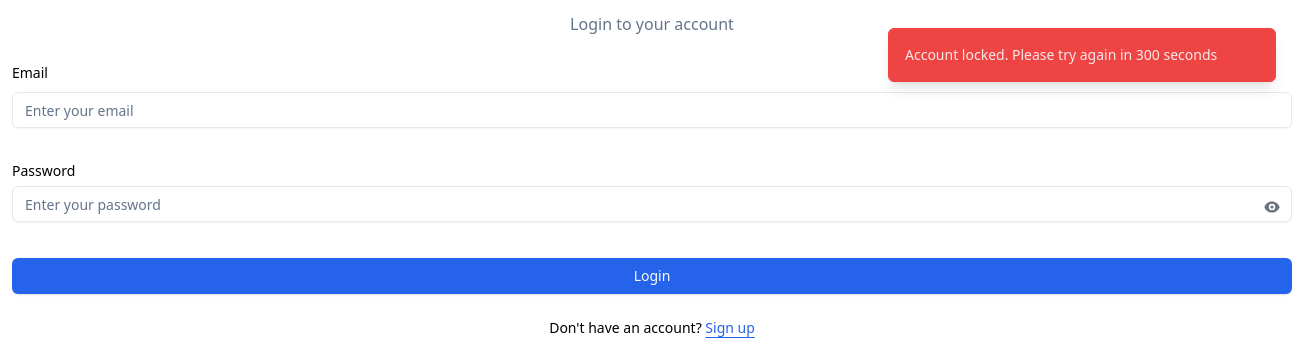
Scenario: Presentation > Features > Auth > LoginForm › should handle rate limit error
Type "test@example.com" into the field labelled "Email".
click(652, 110); type("test@example.com")  # box [12, 92, 1292, 128]
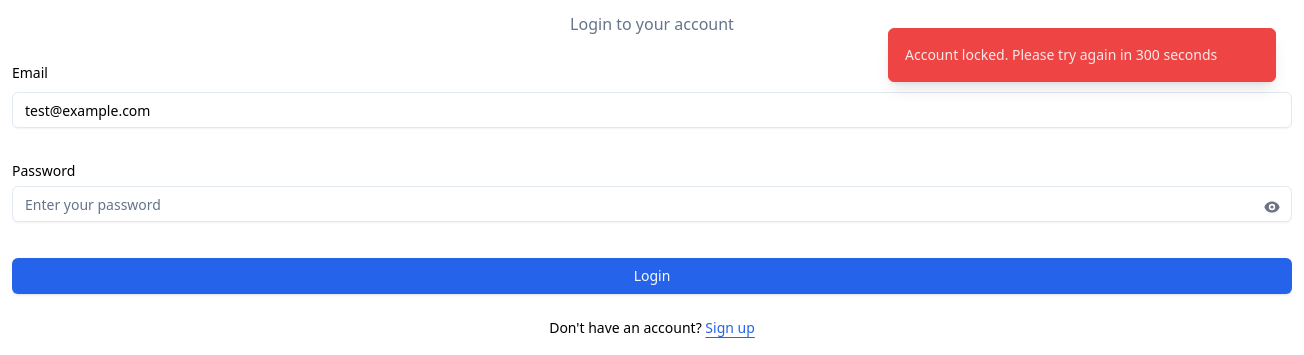
Type "password123" into the password field with test id "password-input".
click(652, 204); type("password123")  # box [12, 186, 1292, 222]
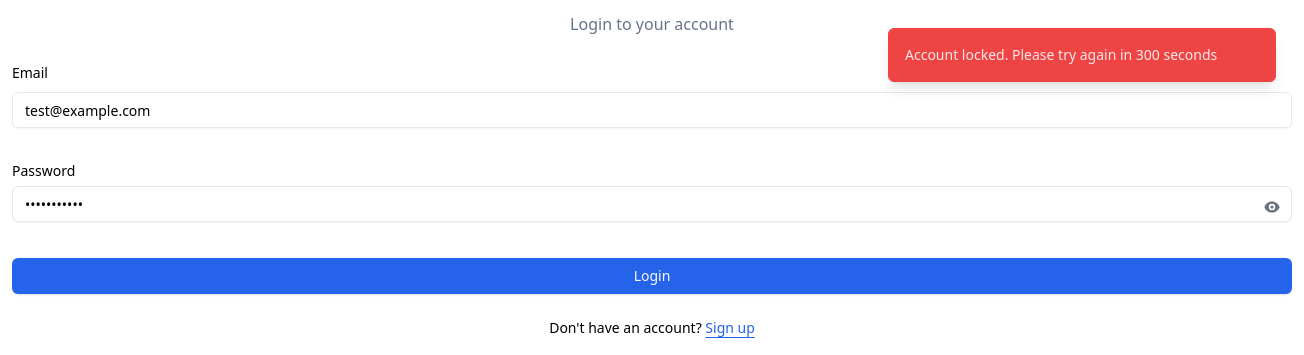
Click the button "Login".
click(652, 276)  # box [12, 258, 1292, 294]
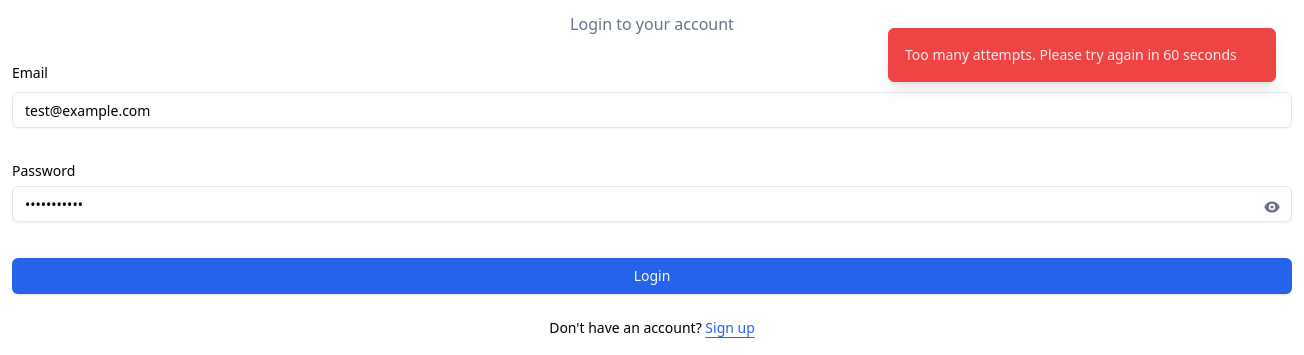
Result: the text "Too many attempts. Please try again in 60 seconds" is shown at [905, 45, 1237, 65]
